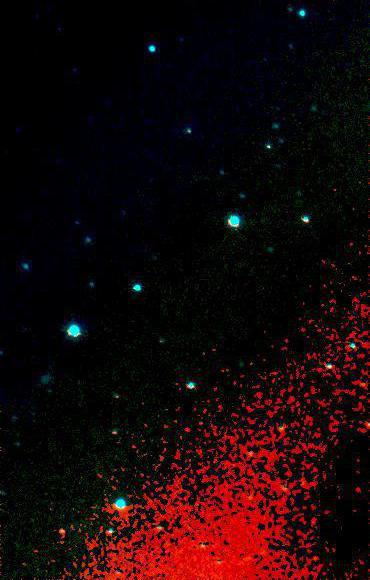star: (49, 517, 79, 547)
